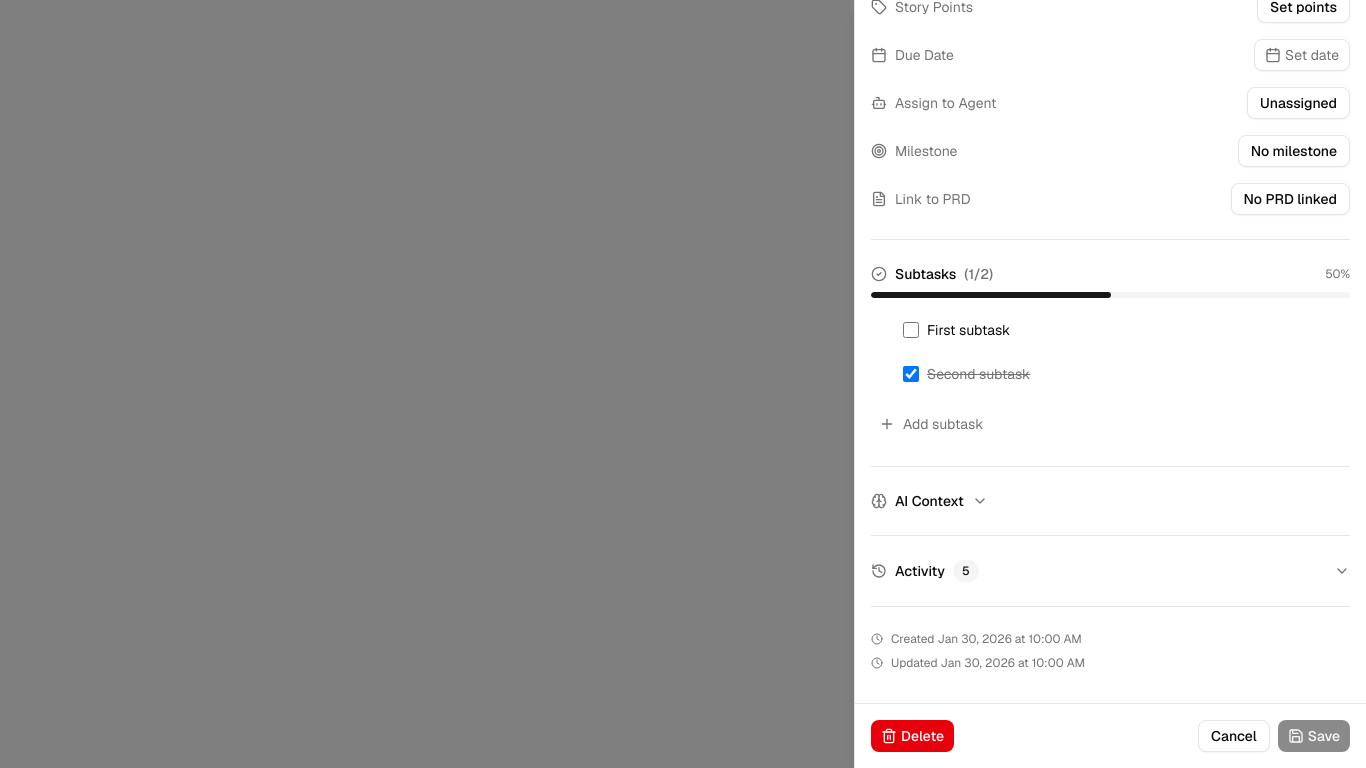
Scenario: 2.5 Task Detail Panel › 2.5.5 AI context section exists › AI context section can be expanded
(page scrolled)
Note: Click to expand
Click the button "AI Context": (929,501) [871, 491, 988, 511]
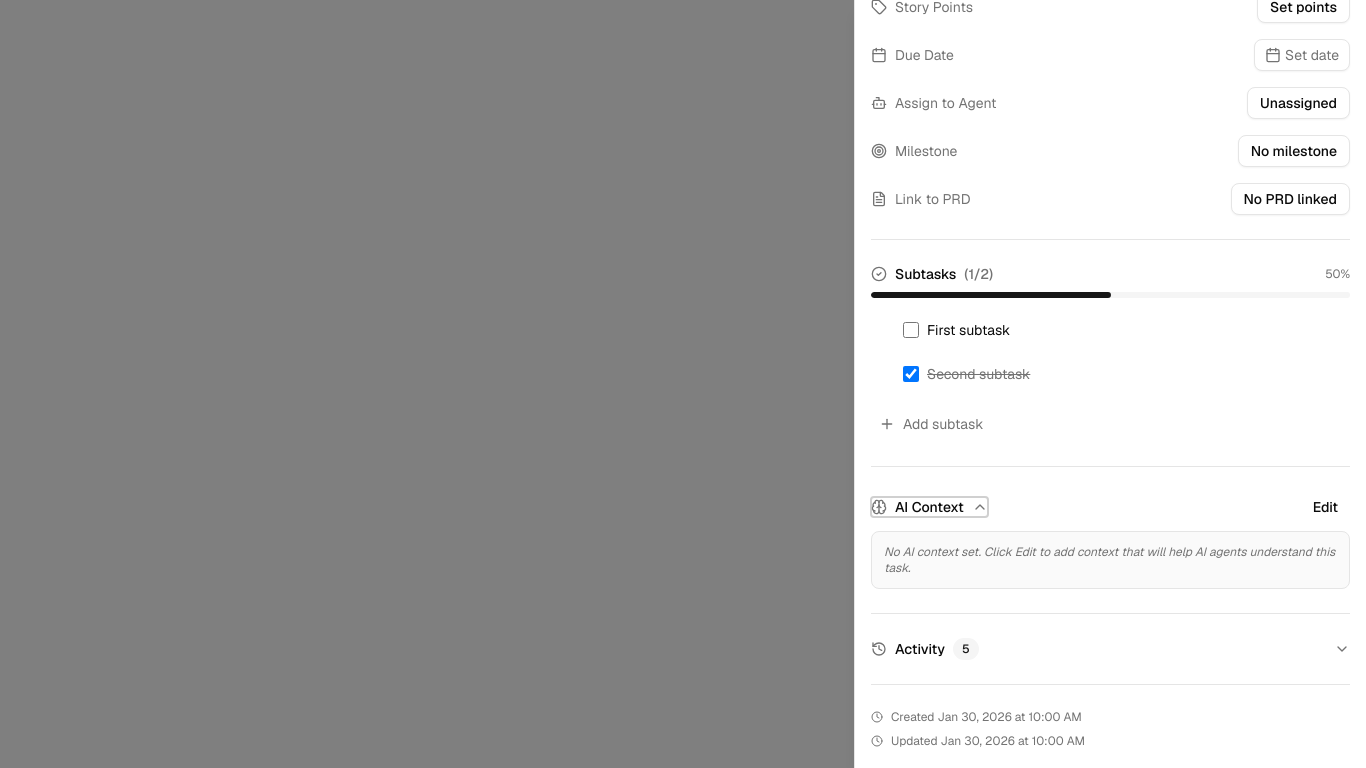
Result: the text "No AI context set" is shown at [884, 544, 1335, 576]
